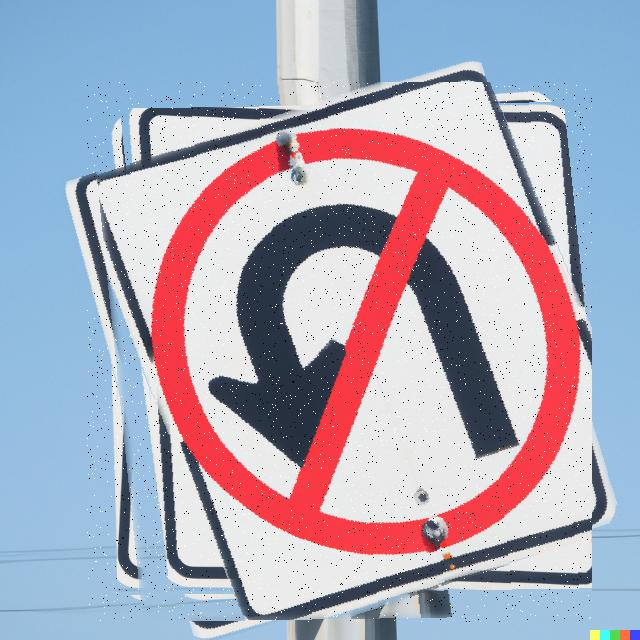no u turn: (87, 82, 592, 622)
